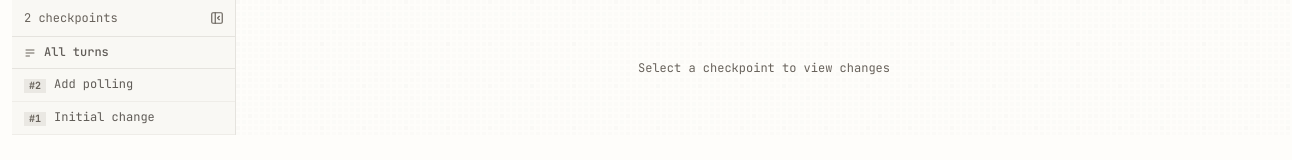
CheckpointsPanel on the shared review panel › folds the turn list to a rail of turn numbers that still selects turns
Click the button named "Collapse checkpoint list" at (217, 18), box [205, 6, 229, 30]
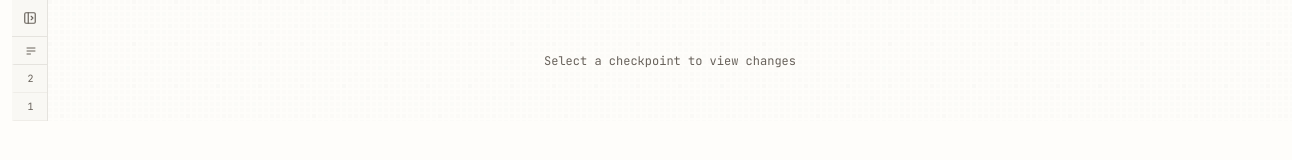
Now the button "Add polling" is gone
Click the button titled "#1: Initial change" at (30, 107), box [12, 93, 47, 121]
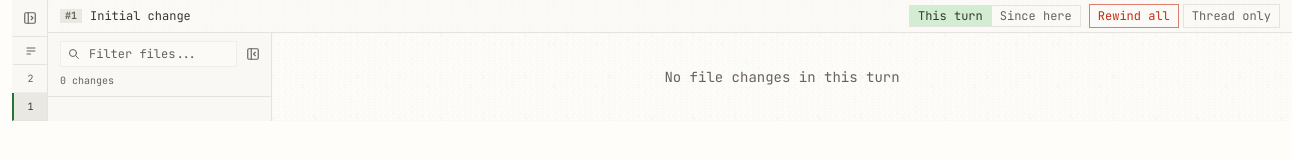
Now the button named "Collapse file list" is shown, box [241, 42, 265, 66]
Click the button named "Expand checkpoint list" at (30, 18), box [18, 6, 42, 30]
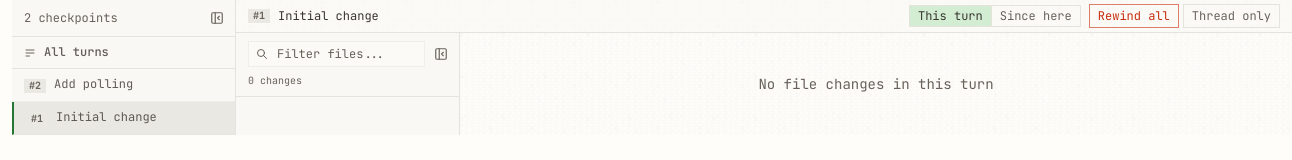
Now the text "Add polling" is shown, box [54, 76, 133, 92]
